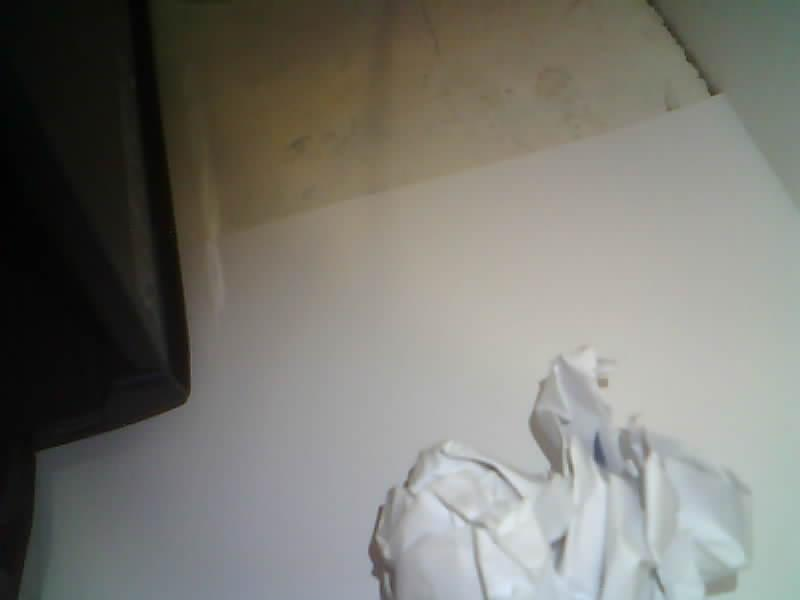biodegradable: (371, 349, 751, 599)
